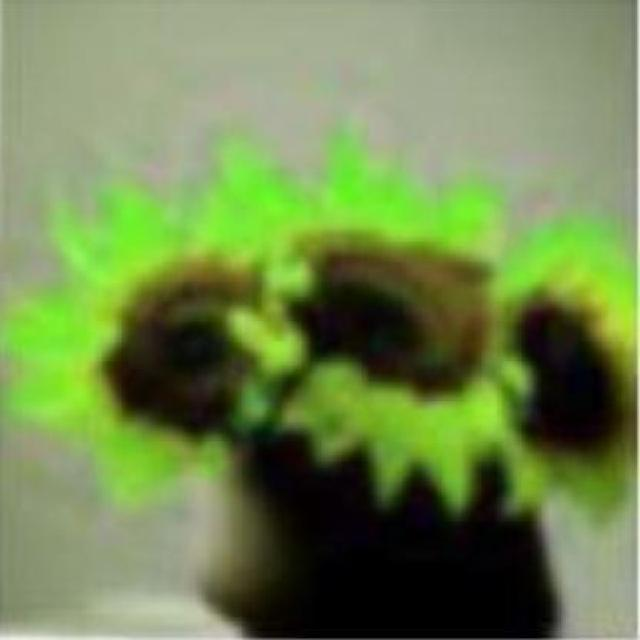sunflower: (269, 119, 512, 515), (3, 167, 276, 510), (502, 209, 638, 526)
